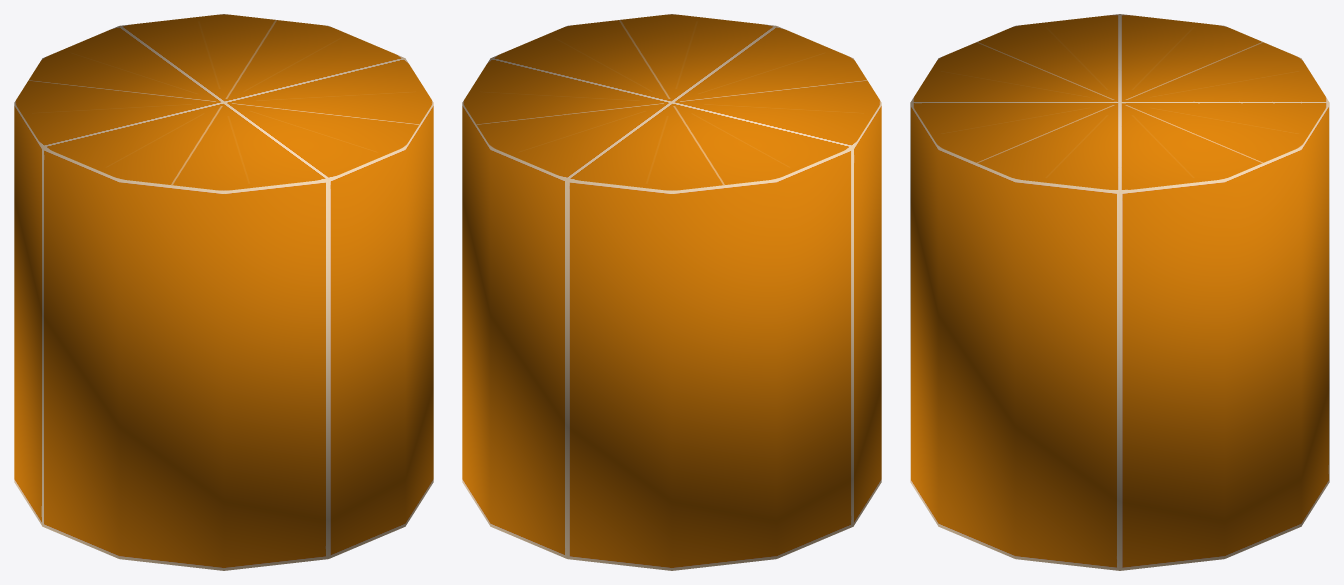
3 renders of one model, left to right at view 1: azimuth 30°, elevation 25°; view 2: azimuth 150°, elevation 25°; view 3: azimuth 270°, elevation 25°, orthographic.
Parts seen in each view (by area): view 1: Cylinder_LQ_Cylinder; view 2: Cylinder_LQ_Cylinder; view 3: Cylinder_LQ_Cylinder.
Boxes of the visible parts, <box> form: Cylinder_LQ_Cylinder: <box>14,14,433,570</box>; Cylinder_LQ_Cylinder: <box>462,14,881,570</box>; Cylinder_LQ_Cylinder: <box>910,14,1329,570</box>.
Size of the model in its own units: 1 by 1 by 1.
1 material, 1 textured.
